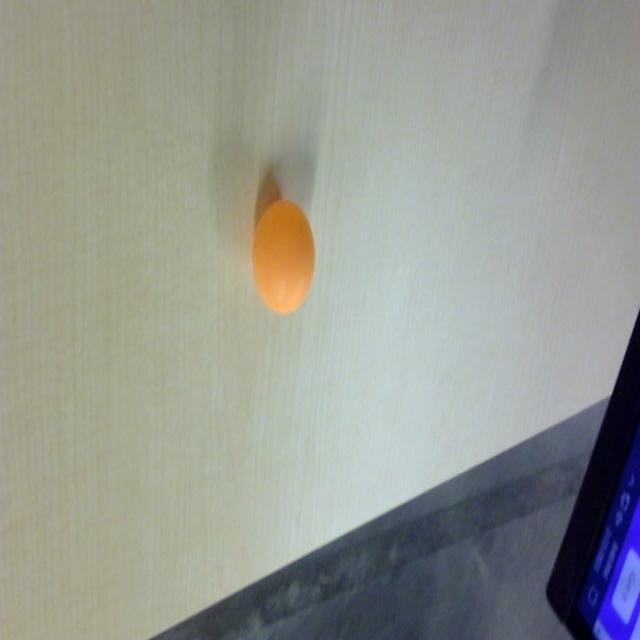ball: (249, 200, 317, 317)
